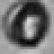correct: (2, 0, 52, 50)
